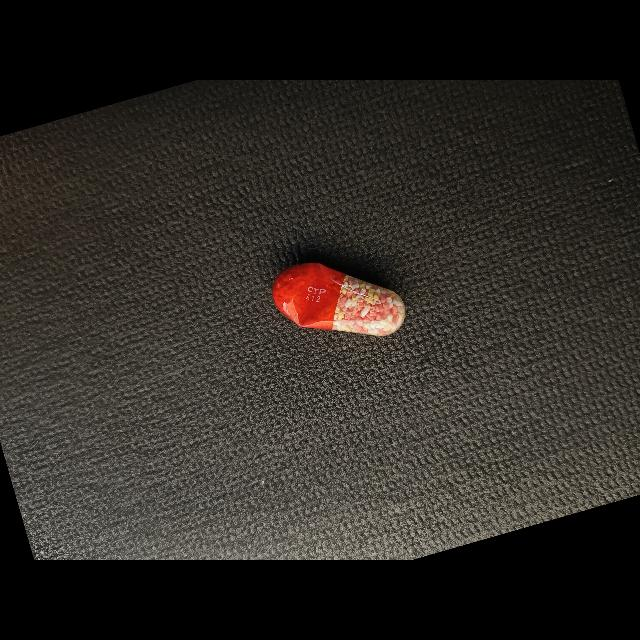Defective Capsule: (272, 262, 406, 336)
